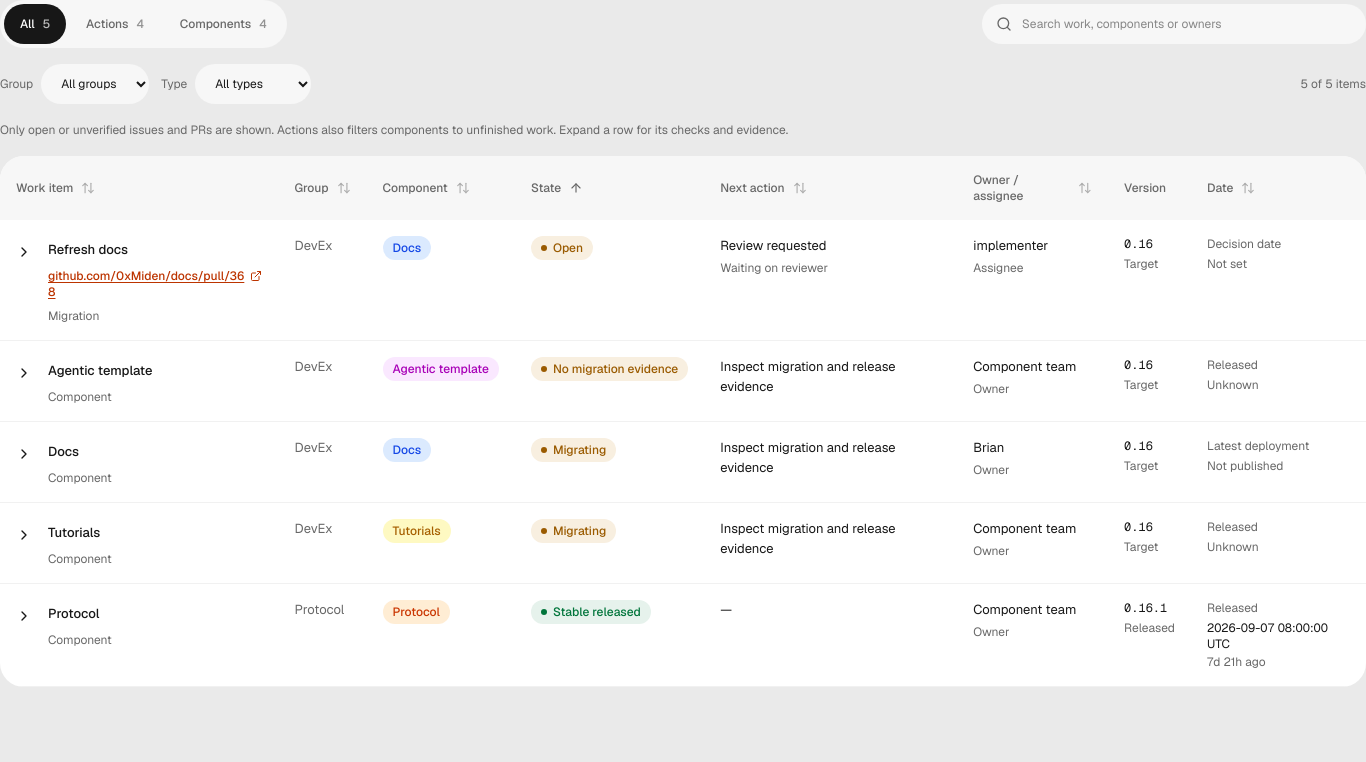
searches and sorts next actions while keeping reviewers separate from assignees
Expected: the row with test id "work-row-work-review" shows "Review requested", [720, 237, 826, 254]
Expected: the row with test id "work-row-work-review" shows "Waiting on reviewer", [0, 220, 1365, 340]
Type "reviewer" into the search field at coordinates (1174, 24), box [982, 4, 1365, 44]
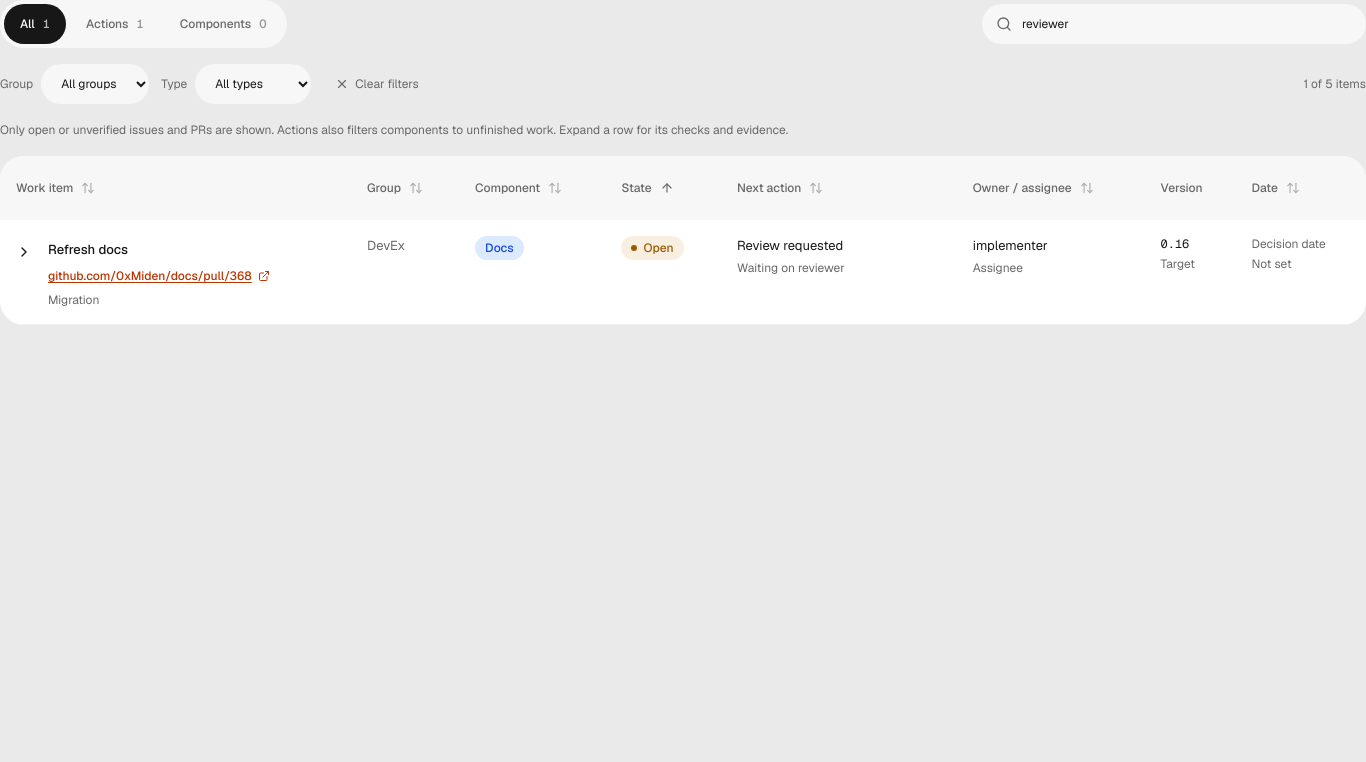
Click the button with aria-label "Sort by Next action" at coordinates (780, 188), box [737, 172, 823, 204]
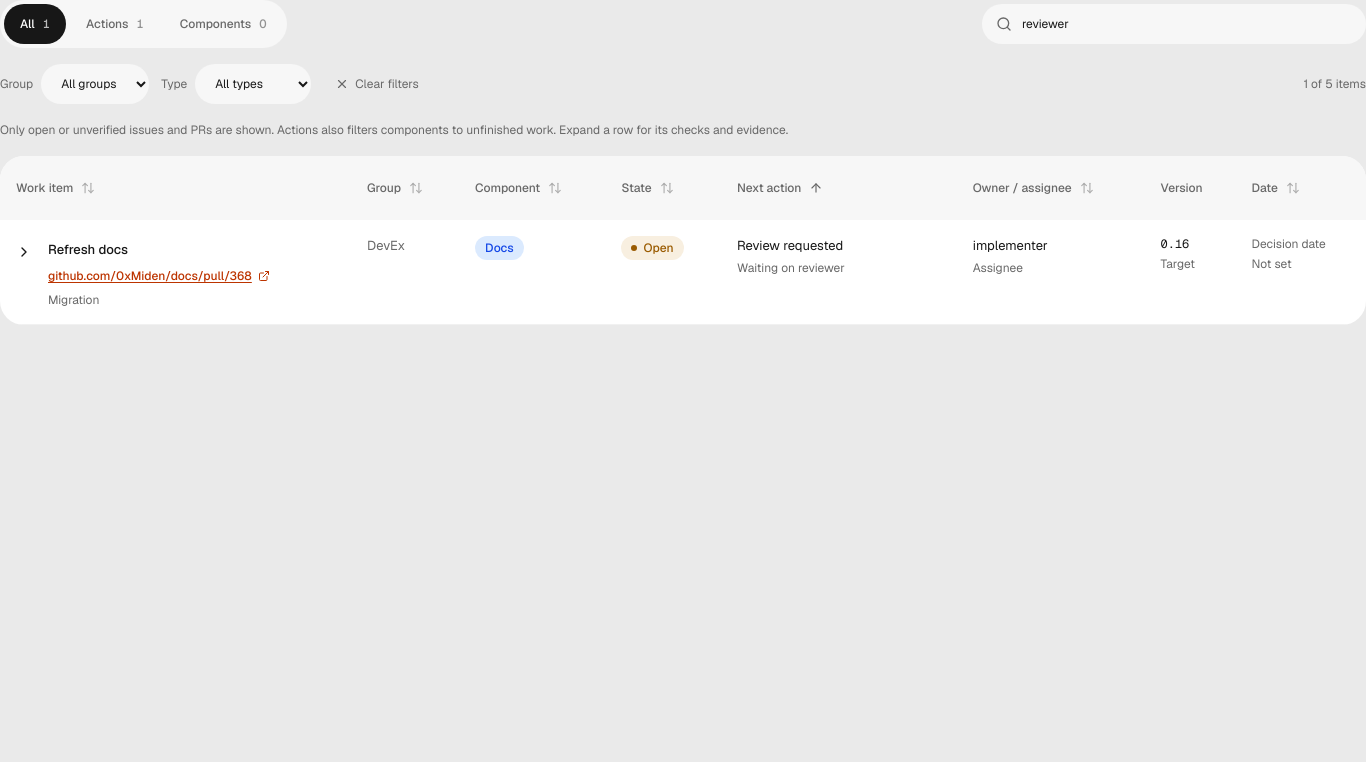
Result: the column heading "Next action" has attribute aria-sort="ascending" at [721, 156, 957, 220]
Click the button named "Show details for Refresh docs" at coordinates (24, 252), box [8, 236, 40, 268]
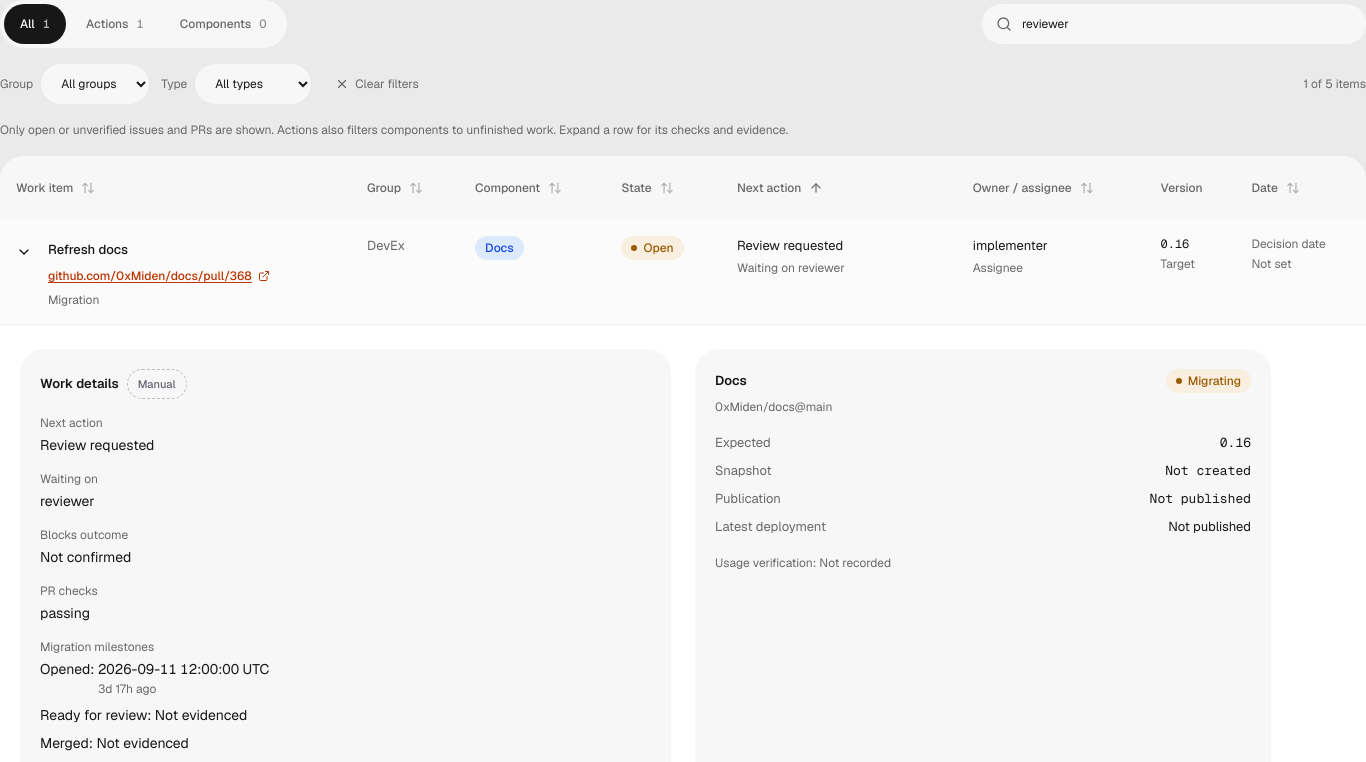
Result: the text "Migration milestones" is shown at [40, 639, 154, 655]
